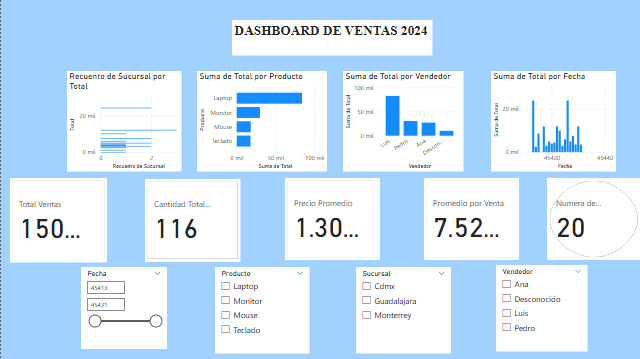

This screenshot's page, from the dashboard's own definition file:
{"tool":"powerbi","page":{"name":"Página 1","canvas":[1280,720],"ordinal":0},"visuals":[{"type":"barChart","fields":{"Y":["Sheet1.Sucursal"],"Category":["Sheet1.Total"]},"box":[132.9,144.3,228.6,201.4],"z":0},{"type":"barChart","fields":{"Category":["Sheet1.Producto"],"Y":["Sheet1.Total"]},"box":[391.4,144.3,260,201.4],"z":1},{"type":"clusteredColumnChart","fields":{"Category":["Sheet1.Vendedor"],"Y":["Sheet1.Total"]},"box":[684.3,144.3,241.4,201.4],"z":2},{"type":"clusteredColumnChart","fields":{"Category":["Sheet1.Fecha"],"Y":["Sheet1.Total"]},"box":[980,144.3,250,201.4],"z":3},{"type":"cardVisual","fields":{"Data":["Sheet1.Total Ventas"]},"box":[18.6,357.1,194.3,168.6],"z":4},{"type":"cardVisual","fields":{"Data":["Sheet1.Promedio por Venta"]},"box":[845.7,357.1,190,164.3],"z":5},{"type":"cardVisual","fields":{"Data":["Sheet1.Cantidad Total Vendida"]},"box":[288.6,360,191.4,165.7],"z":6},{"type":"cardVisual","fields":{"Data":["Sheet1.Precio Promedio"]},"box":[568.6,357.1,190,164.3],"z":7},{"type":"cardVisual","fields":{"Data":["Sheet1.Numera de Transacciones"]},"box":[1092.9,357.1,187.1,164.3],"z":8},{"type":"slicer","fields":{"Values":["Sheet1.Fecha"]},"box":[160,535.7,171.4,164.3],"z":9},{"type":"slicer","fields":{"Values":["Sheet1.Sucursal"]},"box":[710,535.7,190,172.9],"z":10},{"type":"slicer","fields":{"Values":["Sheet1.Producto"]},"box":[427.1,535.7,188.6,172.9],"z":11},{"type":"slicer","fields":{"Values":["Sheet1.Vendedor"]},"box":[990,531.4,182.9,172.9],"z":12},{"type":"textbox","box":[462.9,42.9,401.4,71.4],"z":13}]}

Visuals, with their boxes in screenshot pixels (x1, y1, x2, y2), scaled from the page's 1280x720 canvas onto the 640x359 screenshot:
barChart - Sheet1.Sucursal x Sheet1.Total: 66, 72, 181, 172
barChart - Sheet1.Producto x Sheet1.Total: 196, 72, 326, 172
clusteredColumnChart - Sheet1.Vendedor x Sheet1.Total: 342, 72, 463, 172
clusteredColumnChart - Sheet1.Fecha x Sheet1.Total: 490, 72, 615, 172
cardVisual - Sheet1.Total Ventas: 9, 178, 106, 262
cardVisual - Sheet1.Promedio por Venta: 423, 178, 518, 260
cardVisual - Sheet1.Cantidad Total Vendida: 144, 180, 240, 262
cardVisual - Sheet1.Precio Promedio: 284, 178, 379, 260
cardVisual - Sheet1.Numera de Transacciones: 546, 178, 639, 260
slicer - Sheet1.Fecha: 80, 267, 166, 349
slicer - Sheet1.Sucursal: 355, 267, 450, 353
slicer - Sheet1.Producto: 214, 267, 308, 353
slicer - Sheet1.Vendedor: 495, 265, 586, 351
textbox: 231, 21, 432, 57
